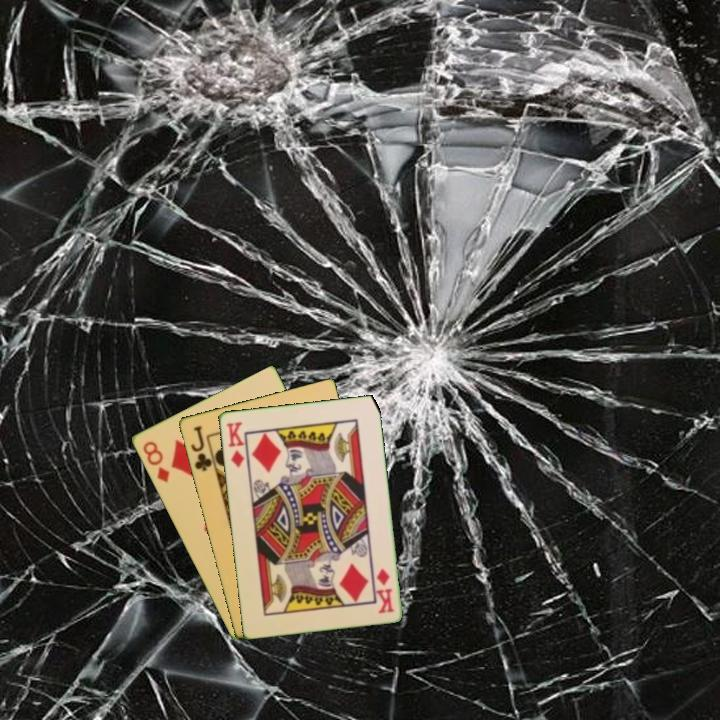8d: (139, 437, 172, 485)
Jc: (187, 422, 215, 474)
Kd: (222, 418, 247, 470), (372, 565, 397, 616)
